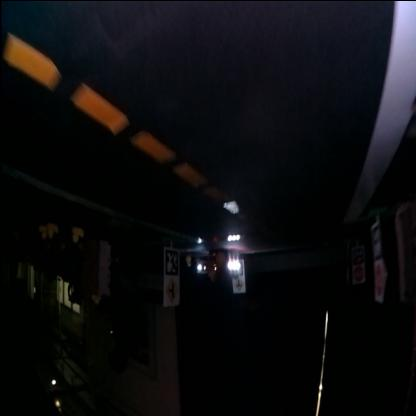Duckie: (72, 228, 84, 242), (92, 295, 100, 303)
Duckiebot: (214, 251, 240, 279)
Intersection sign: (165, 284, 178, 304), (234, 278, 244, 290)
QR code: (164, 250, 178, 276), (372, 224, 381, 256), (352, 246, 364, 264)
Stop sign: (354, 266, 364, 283)
